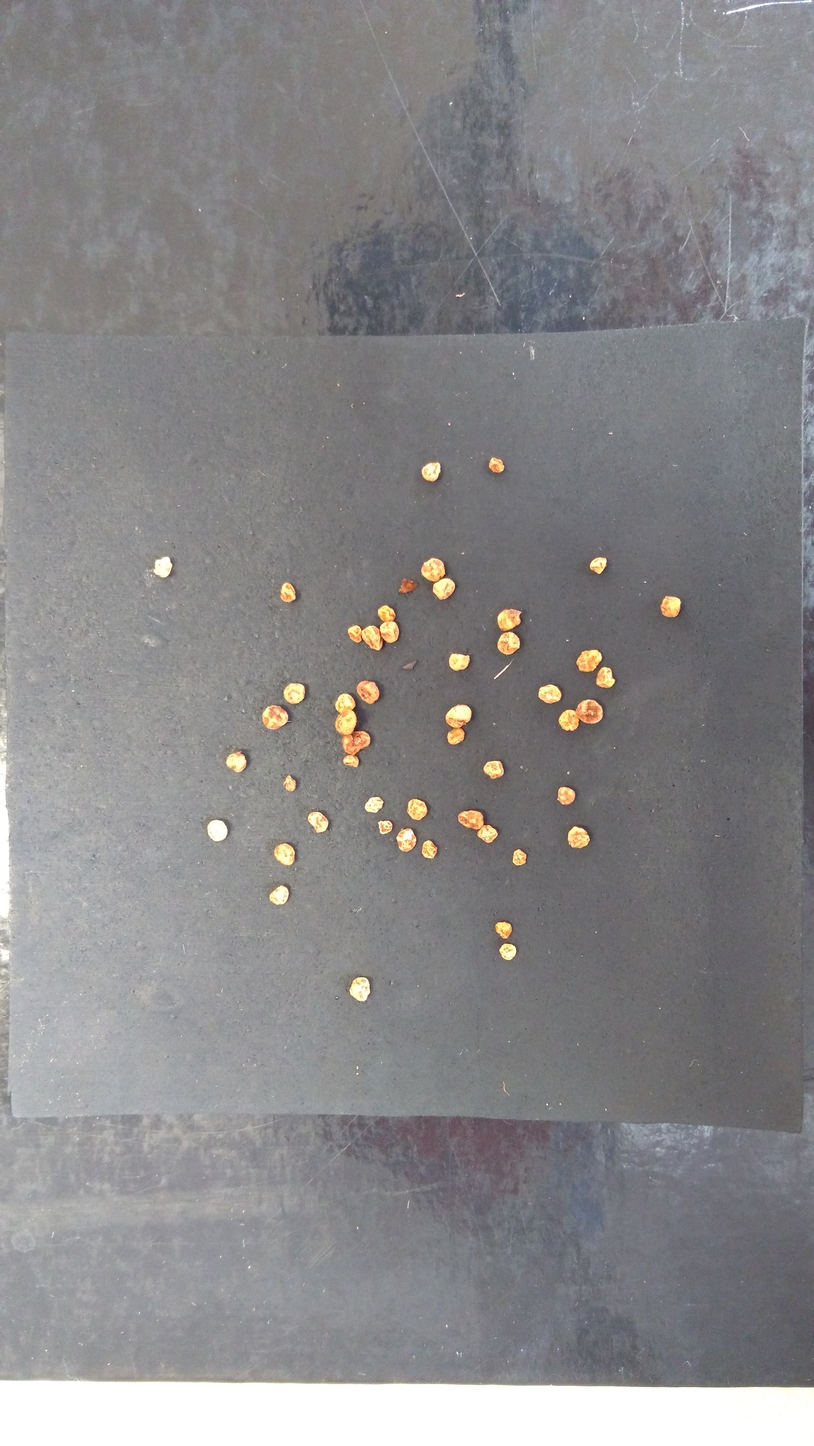nodule: (341, 730, 371, 755), (575, 699, 603, 725), (261, 704, 288, 730), (575, 649, 603, 673), (445, 704, 472, 728), (420, 557, 445, 582), (361, 625, 384, 652), (334, 710, 357, 737), (497, 608, 522, 631), (357, 680, 380, 704), (457, 810, 484, 830), (432, 577, 455, 600), (567, 825, 590, 848), (349, 977, 371, 1001), (283, 682, 306, 704), (273, 843, 295, 866), (498, 632, 520, 655), (379, 620, 400, 644), (396, 828, 417, 852), (557, 709, 579, 731), (207, 819, 228, 842), (660, 595, 681, 618), (538, 684, 562, 704), (308, 811, 329, 833), (406, 798, 427, 820), (153, 555, 173, 578), (334, 693, 355, 714), (420, 461, 441, 482), (595, 666, 615, 688), (226, 752, 247, 772), (268, 885, 289, 905), (477, 824, 498, 844), (483, 760, 504, 779), (448, 653, 470, 671), (398, 577, 419, 595), (557, 785, 576, 804), (378, 604, 396, 623), (499, 942, 517, 961), (280, 582, 297, 602), (364, 796, 384, 813), (589, 557, 608, 574), (446, 728, 465, 745), (495, 921, 512, 938), (421, 840, 437, 858), (347, 625, 362, 644), (512, 848, 527, 866), (282, 775, 297, 792), (489, 457, 504, 473), (342, 755, 360, 768), (378, 819, 393, 834)
